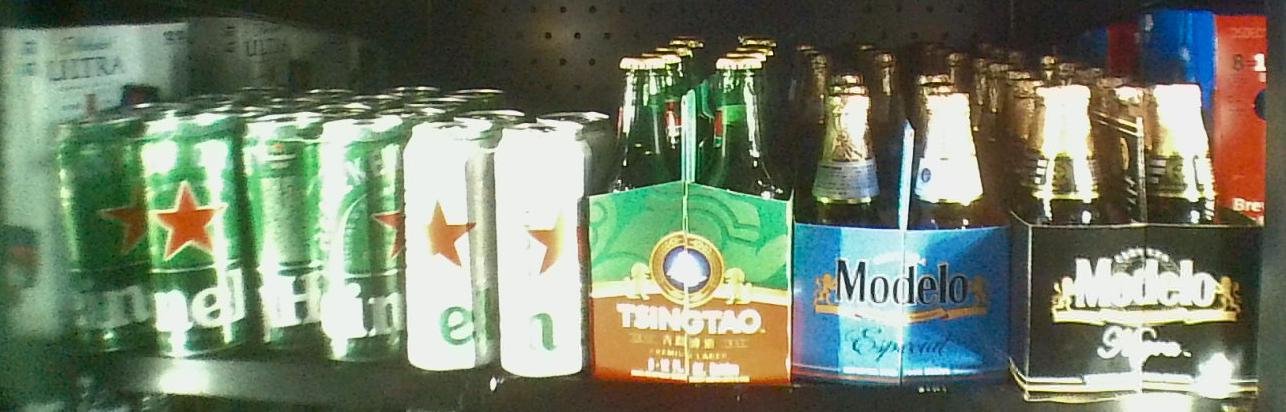bottle: (1021, 90, 1259, 399), (592, 51, 792, 387), (793, 90, 1013, 388), (43, 116, 242, 360), (406, 124, 587, 376), (243, 121, 404, 370)
